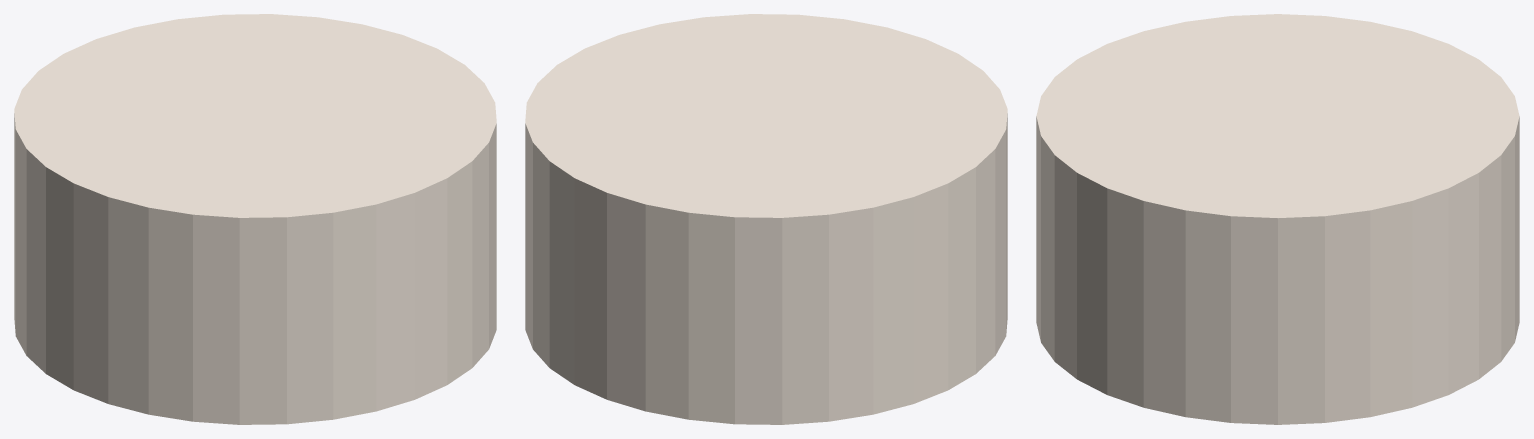
The model's file is fountain.obj.
3 renders of one model, left to right at view 1: azimuth 30°, elevation 25°; view 2: azimuth 150°, elevation 25°; view 3: azimuth 270°, elevation 25°, orthographic.
Visible parts, largest first — view 1: 円柱; view 2: 円柱; view 3: 円柱.
Part boxes in pixels (<box>): 円柱: <box>14,14,496,424</box>; 円柱: <box>525,14,1007,424</box>; 円柱: <box>1036,14,1519,424</box>.
Size of the model in its own units: 0.9598 by 0.4533 by 0.9598.
Materials: 1 (1 with a texture image).
